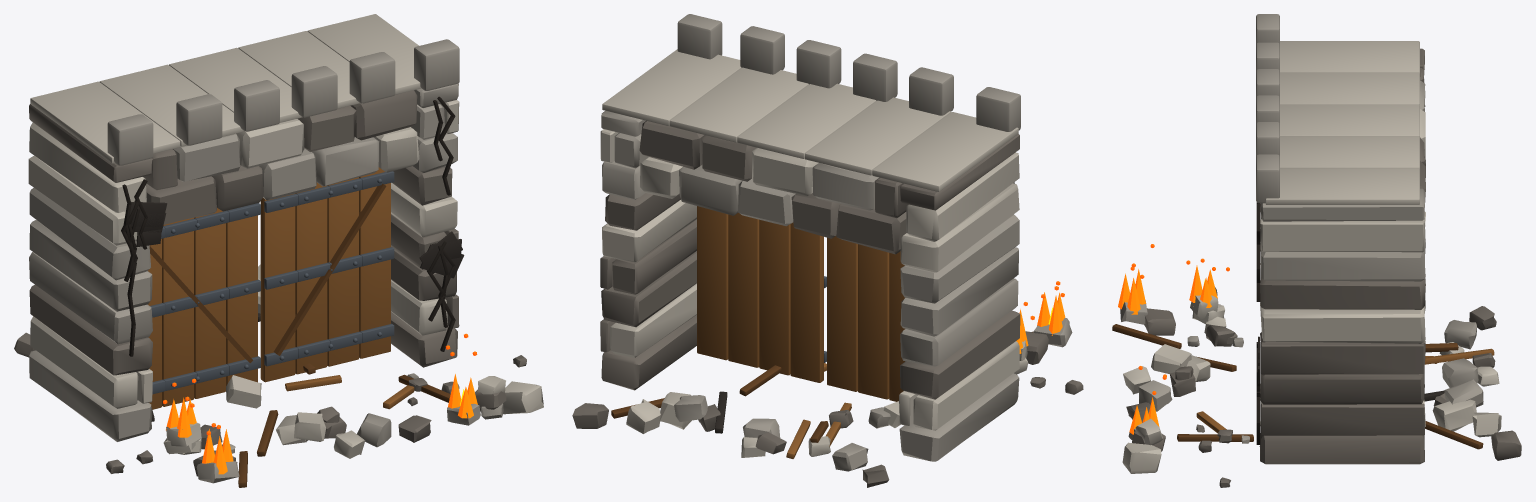
The model's file is brama_etap4.glb.
3 renders of one model, left to right at view 1: azimuth 30°, elevation 25°; view 2: azimuth 150°, elevation 25°; view 3: azimuth 270°, elevation 25°, orthographic. The views are drawn at different scales.
Visible parts, largest first — view 1: brama_etap4; view 2: brama_etap4; view 3: brama_etap4.
Boxes of the visible parts, x1,y1,x2,y2 form: brama_etap4: (14,14,543,487); brama_etap4: (572,14,1083,487); brama_etap4: (1112,14,1521,487).
Bounding box in the file's own units: 9.56 × 7.02 × 8.5.
